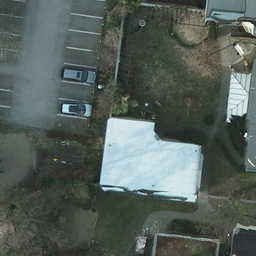car: (60, 64, 97, 84), (59, 101, 92, 118)
